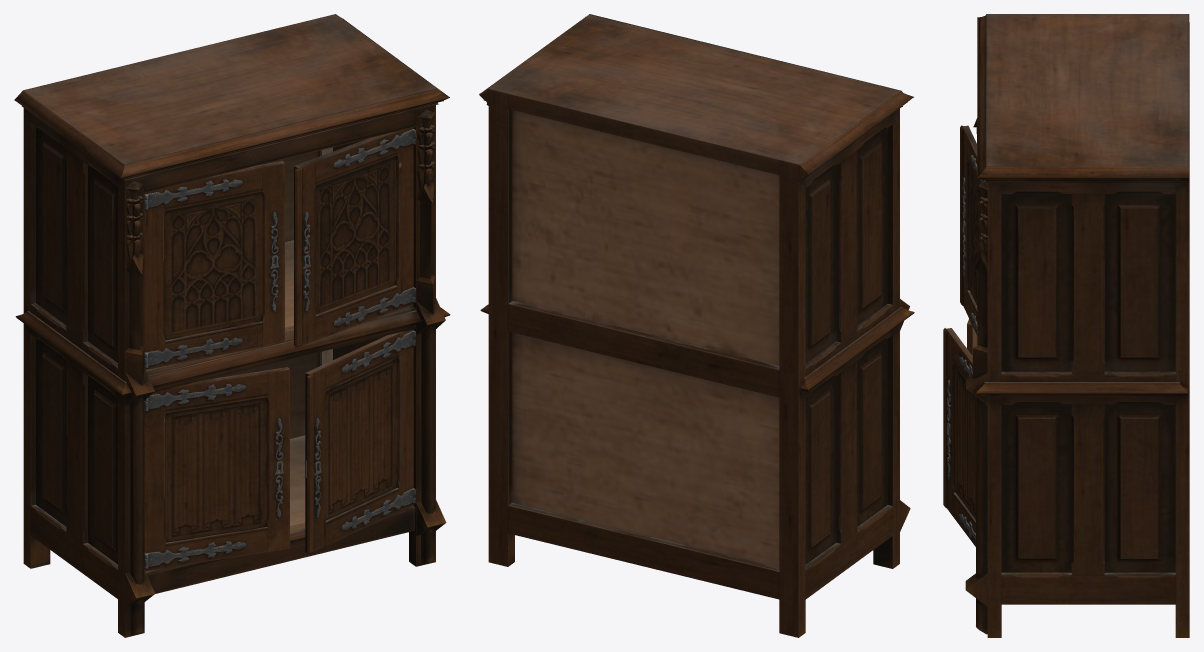
Rendered from GothicCabinet_01.glb.
The picture shows the model from 3 angles, left to right: view 1: azimuth 30°, elevation 25°; view 2: azimuth 150°, elevation 25°; view 3: azimuth 270°, elevation 25°; orthographic projection.
Parts seen in each view (by area): view 1: GothicCabinet_01_cabinet, GothicCabinet_01_door3, GothicCabinet_01_door1, GothicCabinet_01_door2, GothicCabinet_01_door4; view 2: GothicCabinet_01_cabinet; view 3: GothicCabinet_01_cabinet, GothicCabinet_01_door4, GothicCabinet_01_door2.
Boxes of the visible parts, x1=… form: GothicCabinet_01_cabinet: x1=14, y1=14, x2=450, y2=637; GothicCabinet_01_door3: x1=144, y1=367, x2=289, y2=571; GothicCabinet_01_door1: x1=144, y1=160, x2=284, y2=369; GothicCabinet_01_door2: x1=294, y1=127, x2=416, y2=347; GothicCabinet_01_door4: x1=305, y1=329, x2=417, y2=554; GothicCabinet_01_cabinet: x1=479, y1=14, x2=914, y2=637; GothicCabinet_01_cabinet: x1=965, y1=14, x2=1189, y2=637; GothicCabinet_01_door4: x1=943, y1=328, x2=975, y2=546; GothicCabinet_01_door2: x1=960, y1=125, x2=985, y2=336.
Bounding box in the file's own units: 1.72 × 2.36 × 1.12.
Materials: 1 (1 with a texture image).
